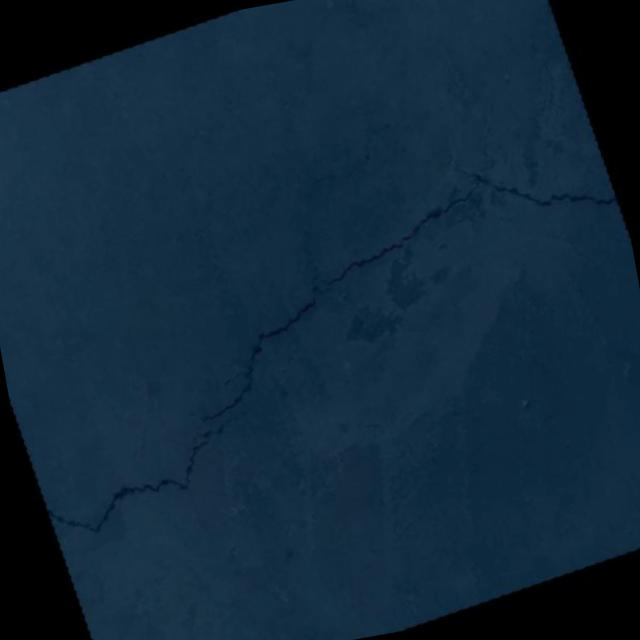crack: (0, 107, 640, 550), (286, 174, 340, 247), (332, 122, 402, 178), (188, 485, 214, 542), (397, 122, 412, 132)
